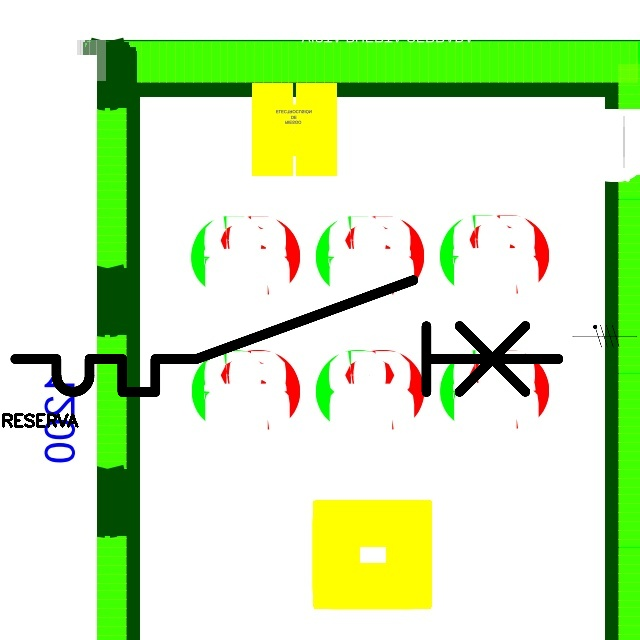interruptor_termomagnetico: (1, 266, 573, 406)
